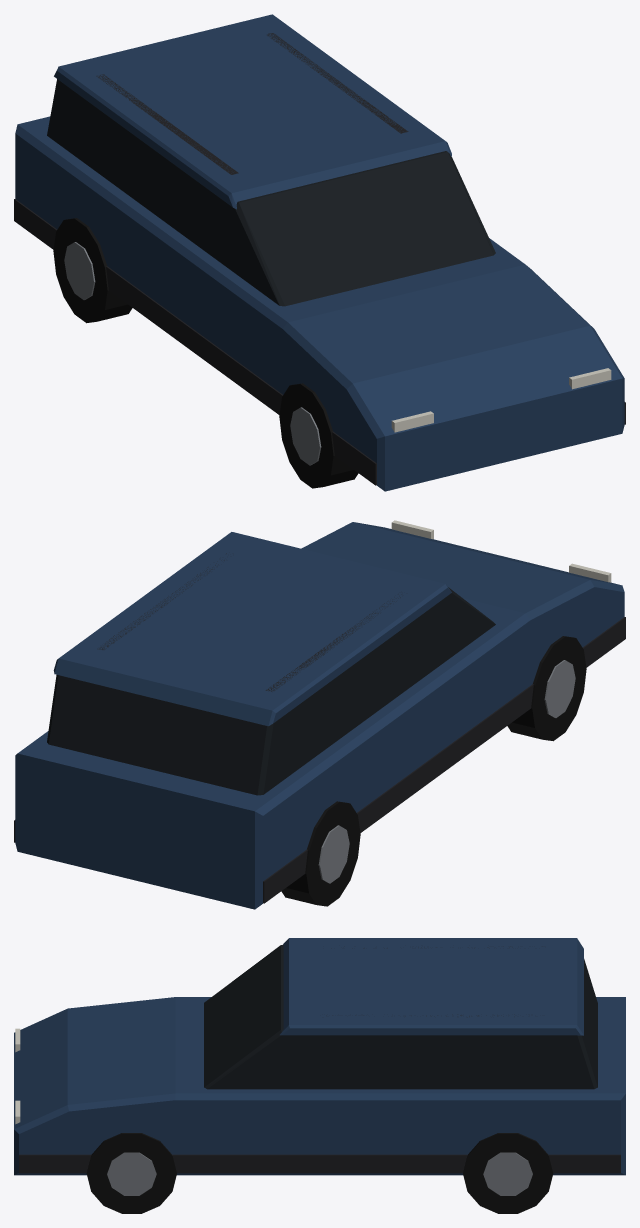
File: crossover.glb
3 views of the same model, one above another, from view 1: azimuth 30°, elevation 25°; view 2: azimuth 150°, elevation 25°; view 3: azimuth 270°, elevation 25° (orthographic). The views are drawn at different scales.
Visible parts, largest first — view 1: crossover; view 2: crossover; view 3: crossover.
Part boxes in pixels (x1,y1,x2,y2): crossover: [14, 14, 625, 491]; crossover: [14, 520, 625, 909]; crossover: [14, 938, 625, 1213].
Size of the model in its own units: 1.96 by 1.59 by 4.88.
